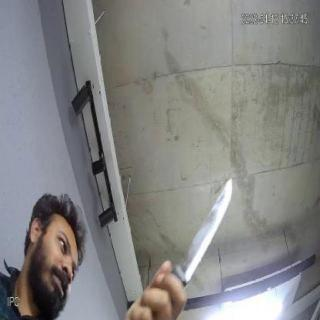knife: (172, 179, 236, 279)
